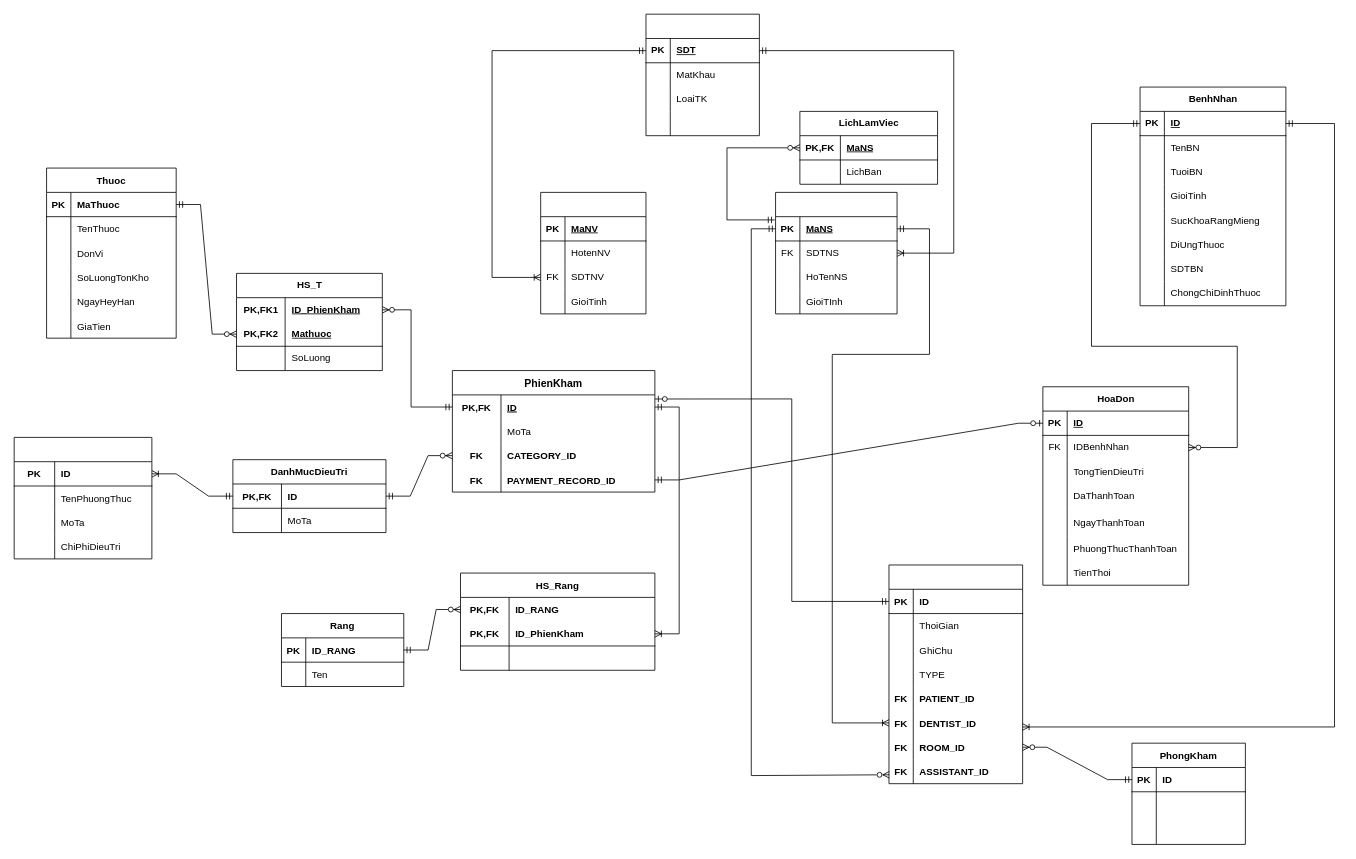
Some shapes in this 1356 by 859 pixel diagram are drawn without their labels. Here are the shapes that lost their labels. From the top down, the box of each, then its label:
(645, 13, 759, 136): TaiKhoan
(540, 192, 646, 314): NhanVien
(775, 192, 897, 314): NhaSi
(13, 437, 152, 559): PhuongThucDieuTri
(888, 564, 1023, 784): HoSoKham
